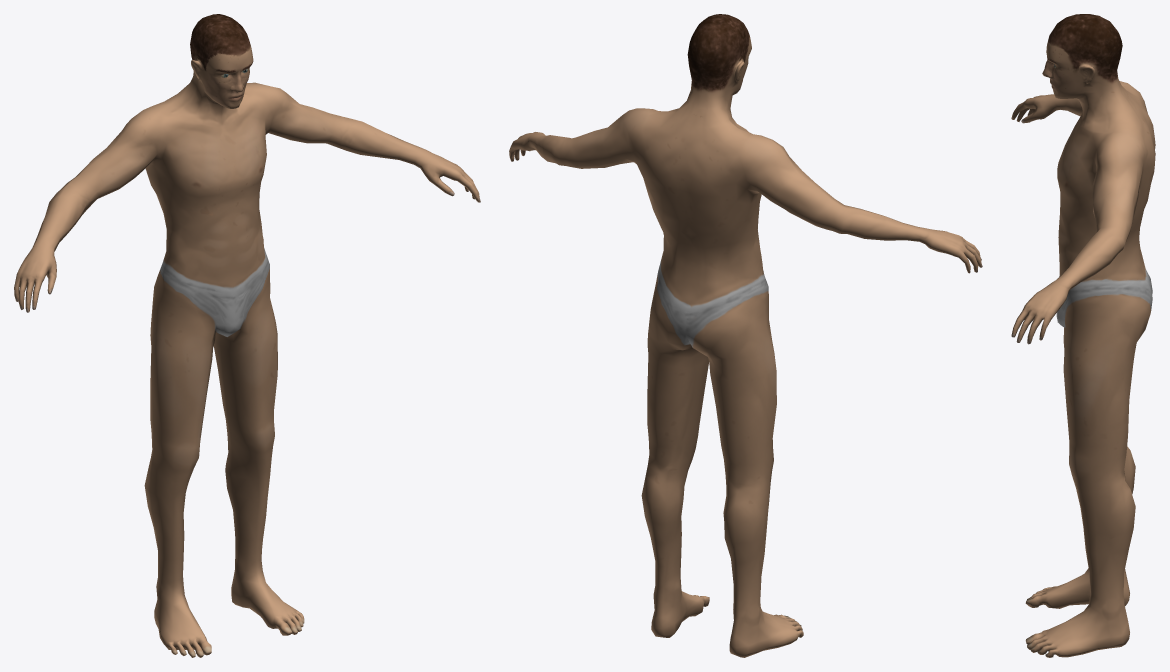
The model's file is wache2_2.dae.
3 views of the same model, side by side, from view 1: azimuth 30°, elevation 25°; view 2: azimuth 150°, elevation 25°; view 3: azimuth 270°, elevation 25° (orthographic).
Parts seen in each view (by area): view 1: wache02; view 2: wache02; view 3: wache02.
Boxes of the visible parts, <box> form: wache02: <box>14,14,480,657</box>; wache02: <box>509,14,982,657</box>; wache02: <box>1011,14,1155,657</box>.
Size of the model in its own units: 1.55 by 0.4213 by 1.97.
Materials: 2 (2 with a texture image).
